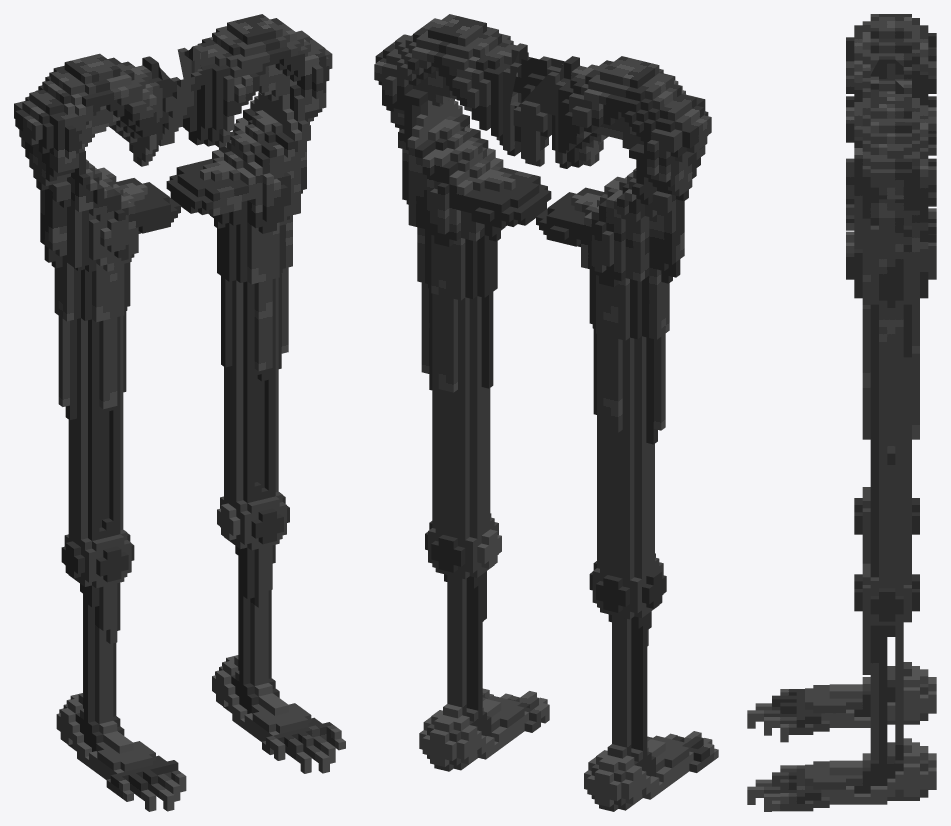
The model's file is skelopon.glb.
The picture shows the model from 3 angles, left to right: view 1: azimuth 30°, elevation 25°; view 2: azimuth 150°, elevation 25°; view 3: azimuth 270°, elevation 25°; orthographic projection. The views are drawn at different scales.
Parts seen in each view (by area): view 1: SkelyDraugr; view 2: SkelyDraugr; view 3: SkelyDraugr.
Part boxes in pixels (x1=…): SkelyDraugr: x1=14, y1=14, x2=345, y2=811; SkelyDraugr: x1=374, y1=14, x2=718, y2=811; SkelyDraugr: x1=747, y1=14, x2=936, y2=811.
Size of the model in its own units: 0.3835 by 0.8584 by 0.21.
Materials: 1 (1 with a texture image).
